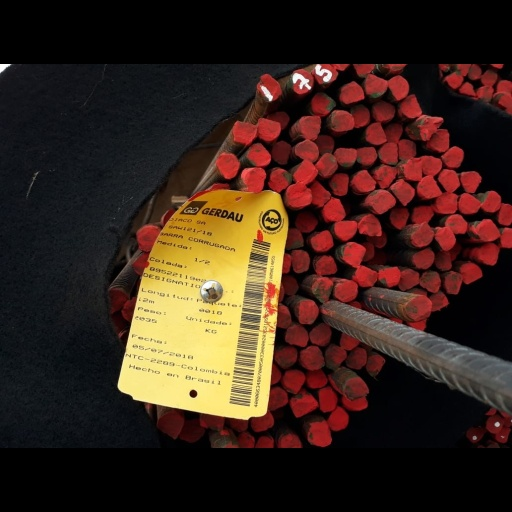dipstick: (412, 113, 443, 141), (283, 182, 312, 207), (289, 393, 318, 417), (256, 75, 281, 101), (288, 69, 314, 94), (231, 121, 257, 146), (406, 294, 430, 321), (351, 169, 376, 194), (299, 347, 325, 371), (138, 224, 164, 248), (291, 161, 318, 184), (295, 297, 318, 324), (391, 179, 416, 203), (417, 175, 440, 201), (158, 413, 184, 436), (475, 218, 499, 242), (369, 190, 394, 213), (282, 370, 307, 393), (347, 104, 370, 128), (399, 95, 423, 118), (373, 164, 396, 188), (323, 199, 346, 223), (376, 265, 400, 288), (285, 323, 308, 347), (343, 378, 366, 402), (433, 193, 458, 215), (418, 271, 443, 293), (309, 182, 330, 208), (275, 345, 298, 368), (308, 422, 331, 445), (256, 119, 280, 141), (436, 226, 457, 251), (458, 262, 484, 282), (365, 75, 388, 97), (437, 169, 459, 192), (343, 243, 365, 266), (409, 224, 432, 246), (182, 420, 205, 442), (107, 286, 129, 309), (337, 84, 365, 102), (241, 169, 265, 190), (198, 412, 225, 430), (217, 154, 239, 176), (457, 193, 479, 215), (386, 78, 409, 99), (311, 95, 334, 116), (429, 128, 450, 151), (315, 154, 338, 175), (295, 212, 318, 233), (308, 324, 331, 345), (330, 111, 354, 131), (441, 147, 465, 167), (335, 280, 359, 300), (318, 388, 338, 412), (291, 249, 310, 274), (313, 256, 338, 275), (270, 143, 291, 165), (298, 118, 320, 139), (312, 278, 333, 300), (480, 189, 500, 212), (245, 146, 269, 165), (266, 169, 290, 188), (411, 249, 435, 268), (420, 154, 441, 175), (311, 229, 332, 250), (479, 244, 500, 265), (326, 348, 347, 369), (460, 172, 480, 194), (359, 216, 381, 236), (355, 265, 377, 285), (445, 216, 467, 236), (399, 268, 418, 291), (296, 140, 320, 158), (445, 271, 463, 295), (365, 124, 386, 144), (378, 143, 399, 163), (390, 207, 410, 228), (282, 228, 303, 248), (334, 147, 356, 166), (306, 369, 328, 388), (267, 387, 286, 409), (227, 413, 249, 432), (329, 410, 349, 430), (314, 135, 335, 154), (373, 102, 394, 121), (348, 348, 367, 369), (313, 66, 339, 81), (342, 395, 368, 410), (446, 71, 466, 90), (331, 175, 350, 195), (403, 161, 422, 181), (335, 221, 356, 239), (428, 292, 449, 310), (252, 414, 273, 432), (493, 90, 512, 109), (397, 139, 416, 158), (435, 250, 452, 271), (368, 354, 385, 375), (276, 304, 290, 329), (278, 434, 302, 448), (134, 251, 148, 275), (122, 298, 136, 321), (269, 112, 289, 128), (382, 124, 402, 140), (356, 148, 376, 164), (412, 206, 432, 222), (497, 204, 512, 225), (486, 416, 503, 434), (339, 332, 359, 347), (499, 226, 512, 249), (235, 432, 253, 448), (367, 232, 386, 247), (480, 71, 497, 87), (476, 88, 495, 102), (269, 362, 280, 386), (161, 209, 177, 225), (361, 243, 375, 261), (407, 319, 426, 332), (354, 65, 374, 77), (284, 278, 298, 295), (211, 182, 230, 194), (256, 435, 273, 448), (459, 83, 474, 97), (468, 67, 483, 81), (467, 428, 481, 443), (496, 428, 510, 442), (498, 80, 512, 92), (457, 64, 470, 76), (385, 65, 406, 71)
